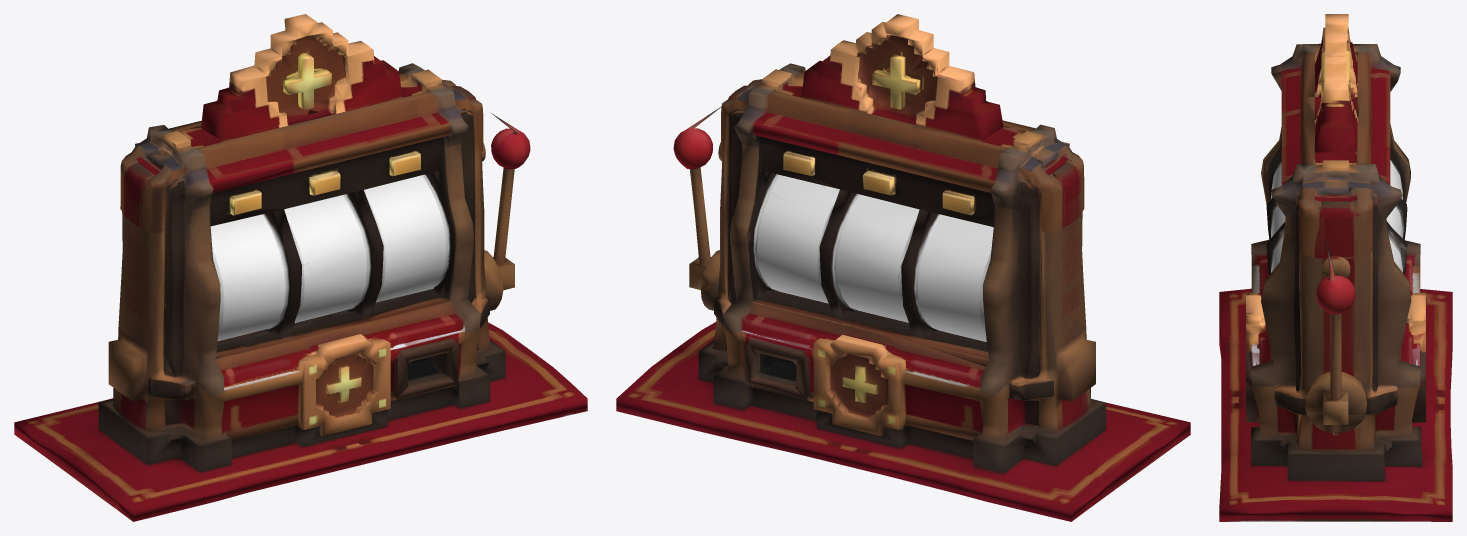
The model's file is Meshy_AI_model.fbx.
3 renders of one model, left to right at view 1: azimuth 30°, elevation 25°; view 2: azimuth 150°, elevation 25°; view 3: azimuth 270°, elevation 25°, orthographic. The views are drawn at different scales.
Visible parts, largest first — view 1: Mesh_0; view 2: Mesh_0; view 3: Mesh_0.
Part boxes in pixels (bbox=[...]): Mesh_0: bbox=[14, 14, 587, 521]; Mesh_0: bbox=[616, 14, 1190, 521]; Mesh_0: bbox=[1219, 14, 1452, 521].
Bounding box in the file's own units: 95.31 × 80.57 × 43.21.
1 material, 1 textured.
